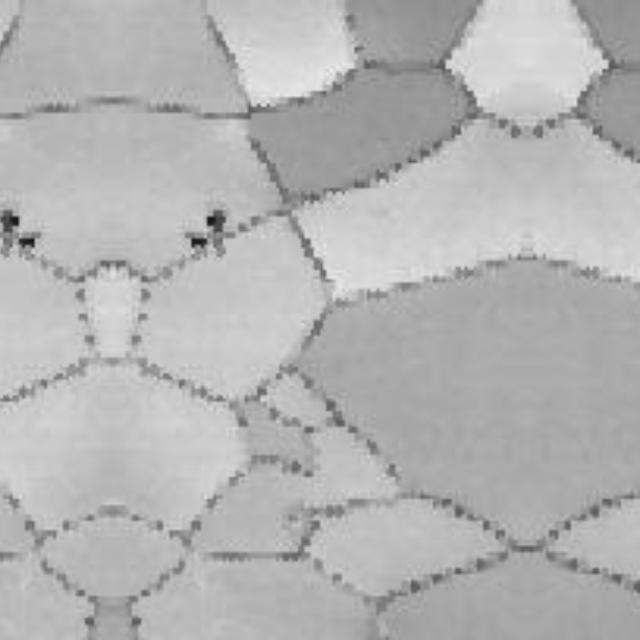good_void: (207, 208, 227, 236), (1, 208, 20, 236), (189, 236, 209, 250), (19, 236, 38, 250)
